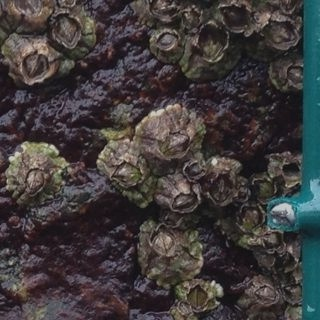Barnacle: (260, 17, 298, 46), (198, 23, 225, 58), (55, 14, 81, 45), (209, 170, 234, 202), (151, 225, 177, 255), (21, 51, 49, 78), (160, 130, 189, 155), (237, 204, 262, 231), (188, 284, 211, 309), (254, 284, 280, 306), (174, 191, 198, 214), (116, 161, 141, 183), (151, 0, 178, 20), (15, 0, 43, 19), (184, 156, 206, 180), (286, 63, 307, 86), (180, 7, 200, 31), (254, 178, 275, 200), (26, 167, 44, 191), (160, 31, 180, 51), (177, 300, 192, 316)
